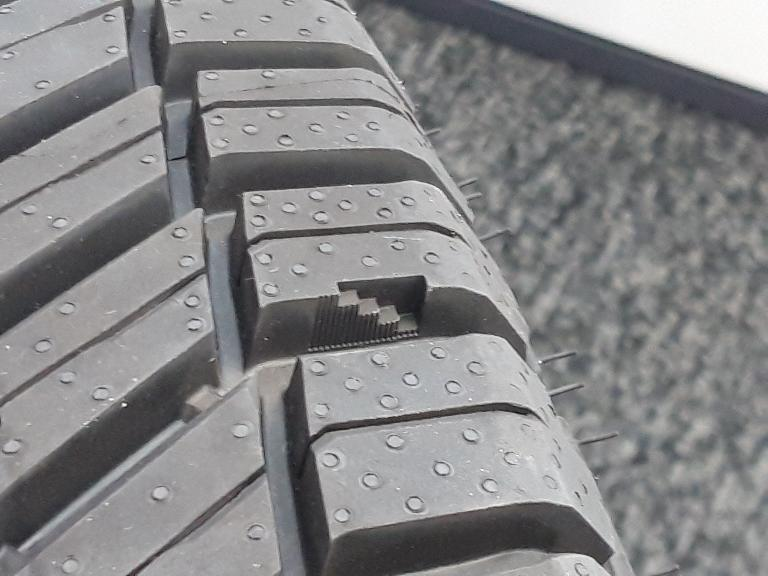temoin:100: (307, 272, 432, 355)
